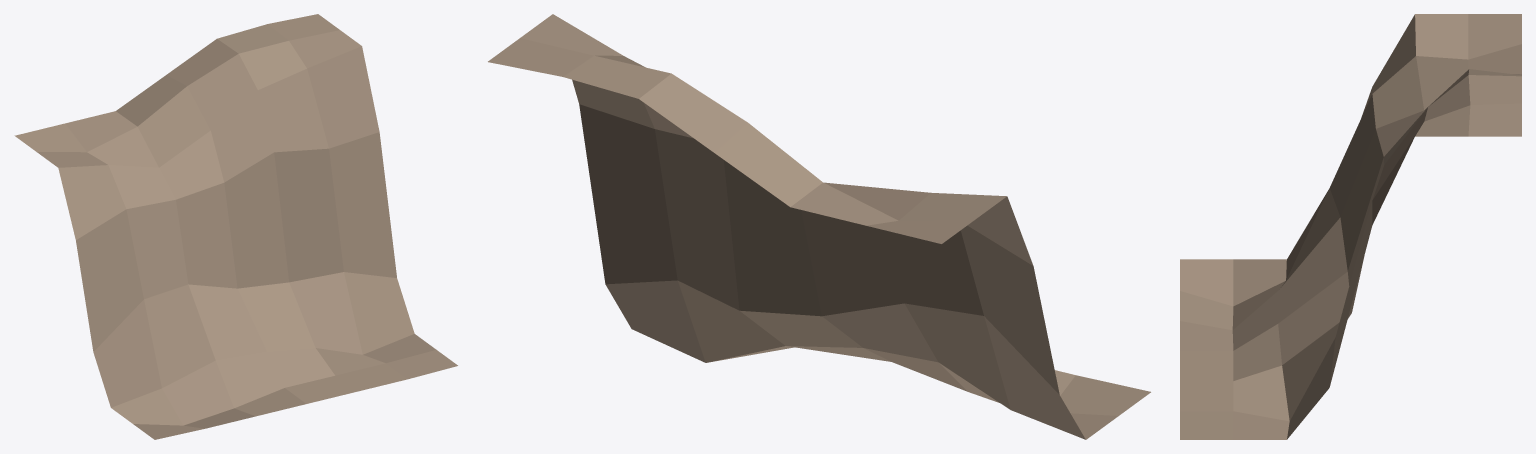
The model's file is Groborchik_RiverBank_Trans_Down5-4.fbx.
3 renders of one model, left to right at view 1: azimuth 30°, elevation 25°; view 2: azimuth 150°, elevation 25°; view 3: azimuth 270°, elevation 25°, orthographic. The views are drawn at different scales.
Visible parts, largest first — view 1: Trans_Down5-4; view 2: Trans_Down5-4; view 3: Trans_Down5-4.
Part boxes in pixels (<box>): Trans_Down5-4: <box>14,14,457,439</box>; Trans_Down5-4: <box>488,14,1150,439</box>; Trans_Down5-4: <box>1180,14,1521,439</box>.
Bounding box in the file's own units: 1000 × 835 × 800.
